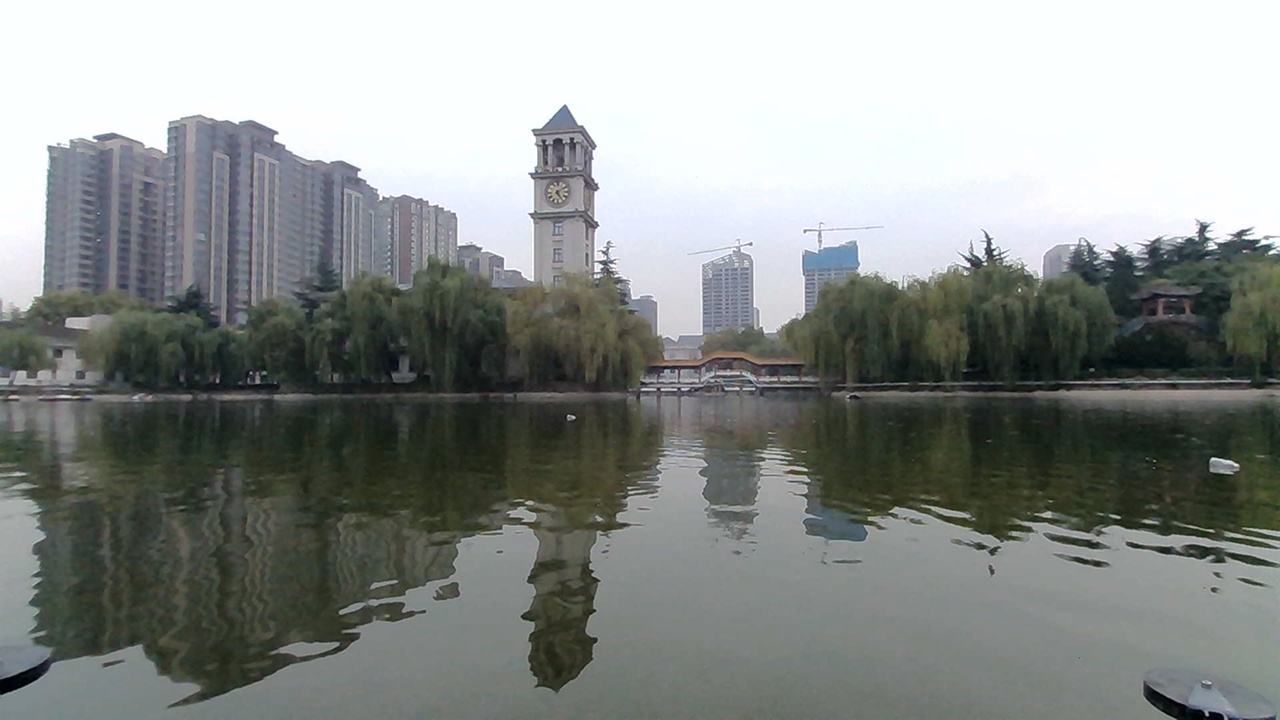bottle: (1205, 455, 1237, 476), (564, 402, 595, 423)
